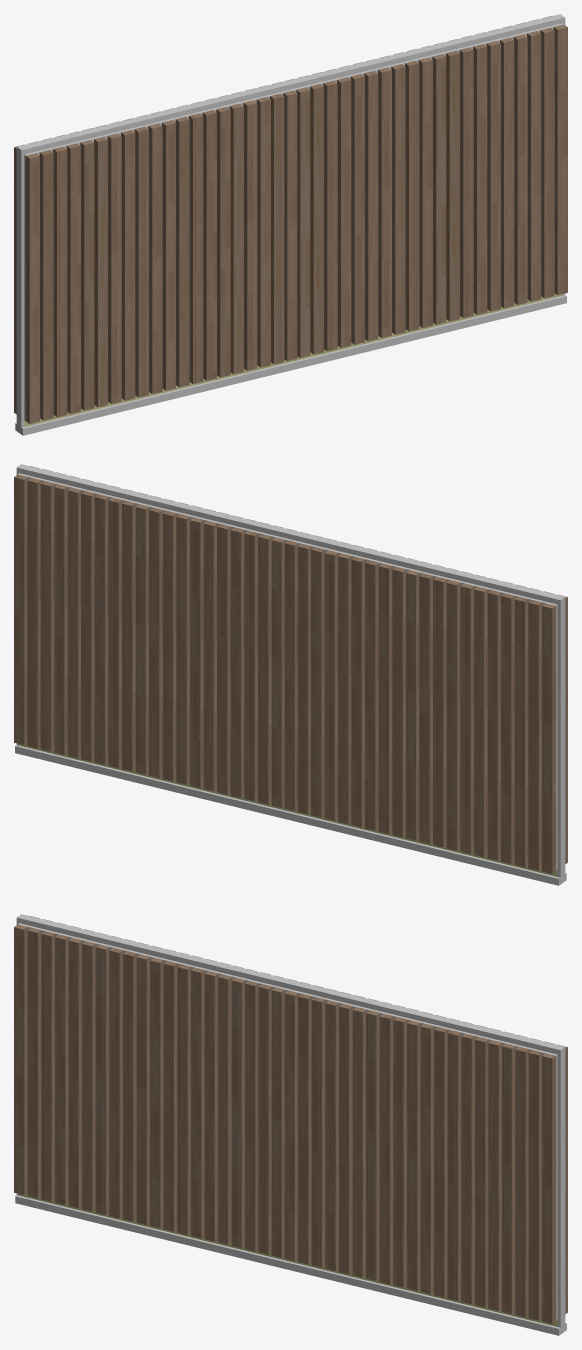
The model's file is D_Partition_003_4x2.fbx.
3 renders of one model, top to bottom at view 1: azimuth 30°, elevation 25°; view 2: azimuth 150°, elevation 25°; view 3: azimuth 330°, elevation 25°, orthographic.
Visible parts, largest first — view 1: D_Partition_003_4x2; view 2: D_Partition_003_4x2; view 3: D_Partition_003_4x2.
Part boxes in pixels (x1,y1,x2,y2): D_Partition_003_4x2: (14,14,567,435); D_Partition_003_4x2: (14,464,567,885); D_Partition_003_4x2: (14,914,567,1335).
Size of the model in its own units: 4 by 2 by 0.2.
